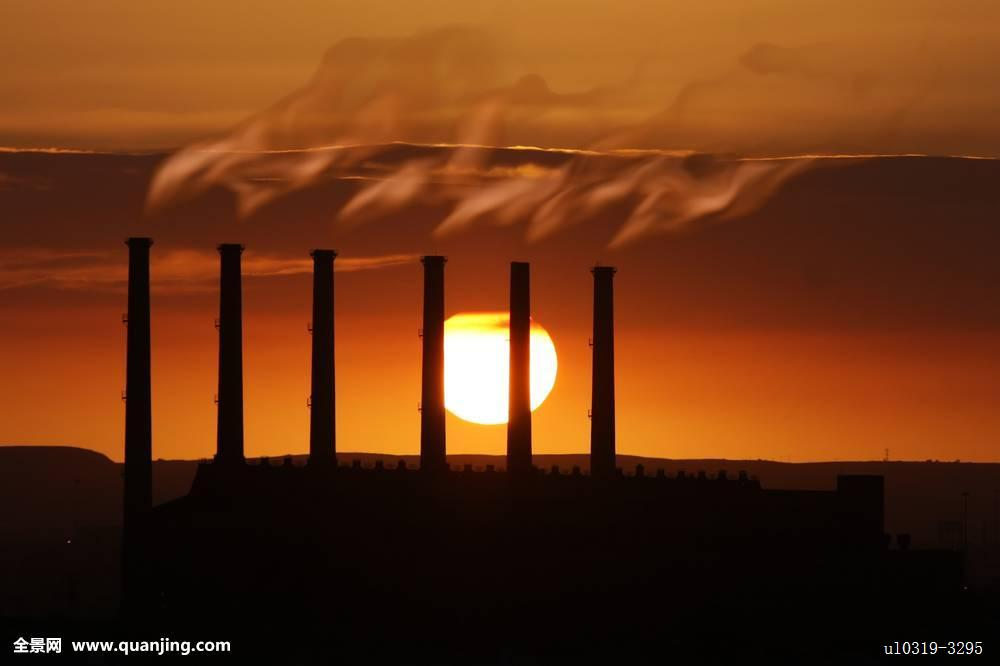dust: (604, 145, 874, 262)
